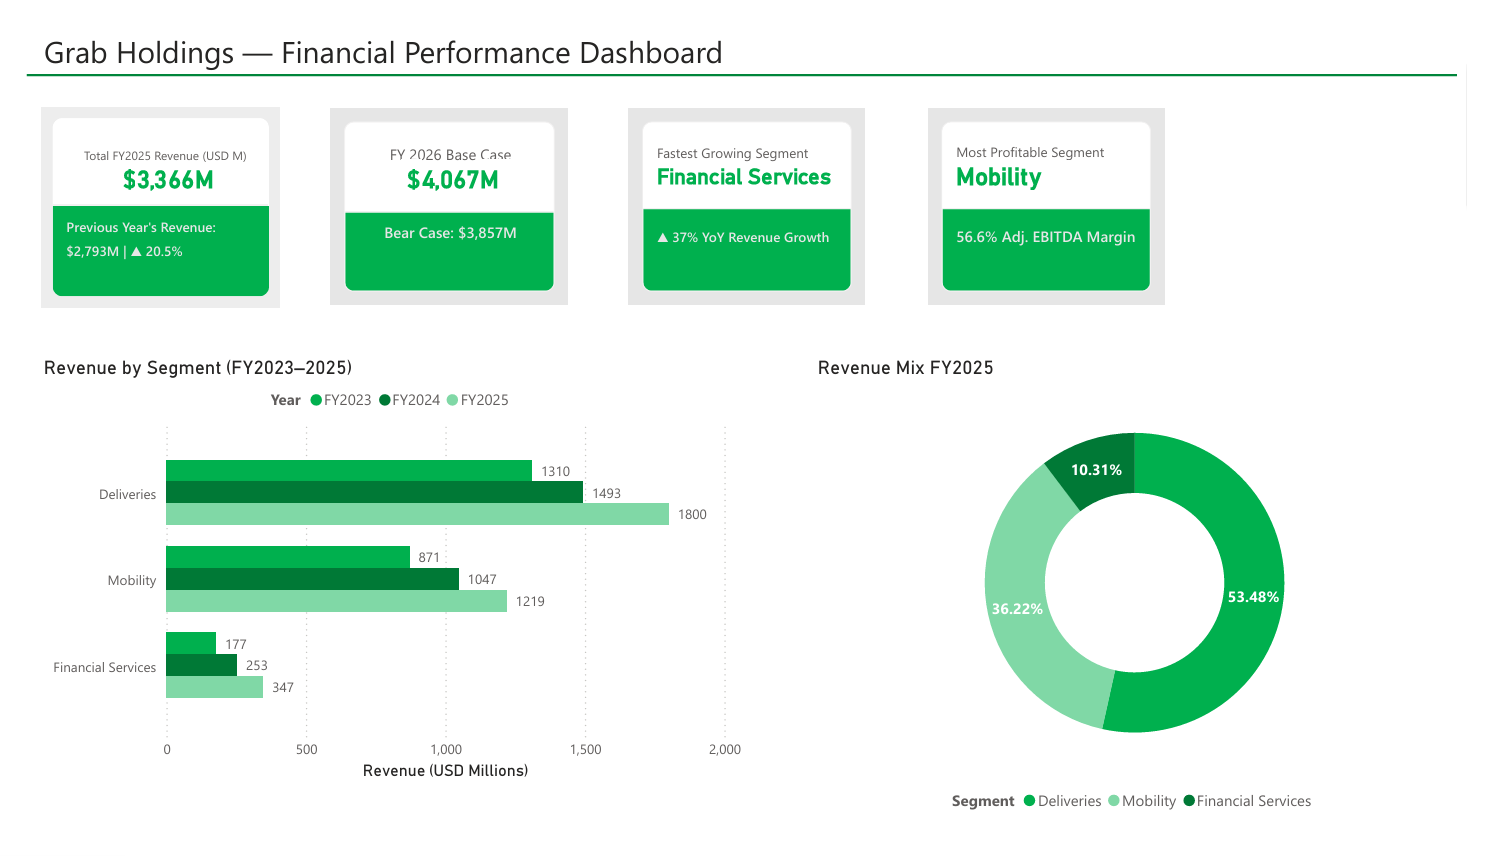

This screenshot's page, from the dashboard's own definition file:
{"tool":"powerbi","page":{"name":"Company Overview","canvas":[1280,720],"ordinal":0},"visuals":[{"type":"textbox","box":[9.6,0,813.7,52.1],"z":0},{"type":"shape","box":[0,26.1,1270.7,37],"z":1000},{"type":"cardVisual","fields":{"Data":["Sum(Revenue.Revenue)"]},"box":[10,53,220,201],"z":2000},{"type":"textbox","box":[80,125,16.2,33.8],"z":3000},{"type":"textbox","box":[148.8,125,40.6,34.4],"z":4000},{"type":"cardVisual","fields":{"Data":["Revenue.FY2026 Base Case Total"]},"box":[264.8,53.5,220.9,200.3],"z":5000},{"type":"textbox","box":[333,120,18,34],"z":6000},{"type":"textbox","box":[403,120,41,34],"z":7000},{"type":"cardVisual","fields":{"Data":["Revenue.Fastest Growing Segment"]},"box":[530,54,220,200],"z":8000},{"type":"cardVisual","fields":{"Data":["Revenue.Most Profitable Segment"]},"box":[796.2,53.8,220,200],"z":9000},{"type":"clusteredBarChart","title":"Revenue by Segment (FY2023–2025)","fields":{"Category":["Revenue.Segment"],"Y":["Sum(Revenue.Revenue)"],"Series":["Revenue.Year"]},"box":[10,293.8,630,381.2],"z":10000},{"type":"donutChart","title":"Revenue Mix FY2025","fields":{"Category":["Revenue.Segment"],"Y":["Sum(Revenue.Revenue)"]},"box":[697.5,293.8,573.8,413.8],"z":11000}]}

Visuals, with their boxes in screenshot pixels (x1, y1, x2, y2), scaled from the page's 1280x720 canvas onto the 1493x856 screenshot:
textbox: 11:0:960:62
shape: 0:31:1482:75
cardVisual - Sum(Revenue.Revenue): 12:63:268:302
textbox: 93:149:112:189
textbox: 174:149:221:190
cardVisual - Revenue.FY2026 Base Case Total: 309:64:567:302
textbox: 388:143:409:183
textbox: 470:143:518:183
cardVisual - Revenue.Fastest Growing Segment: 618:64:875:302
cardVisual - Revenue.Most Profitable Segment: 929:64:1185:302
"Revenue by Segment (FY2023–2025)" clusteredBarChart: 12:349:746:802
"Revenue Mix FY2025" donutChart: 814:349:1483:841
